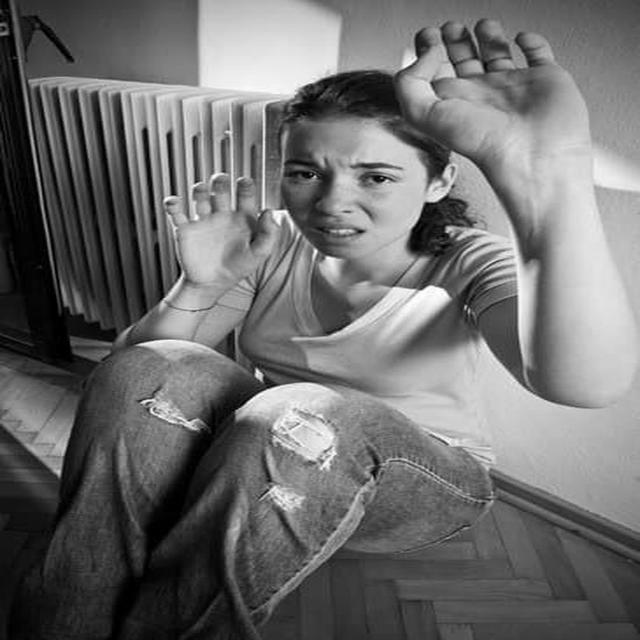Fear: (280, 120, 420, 261)
